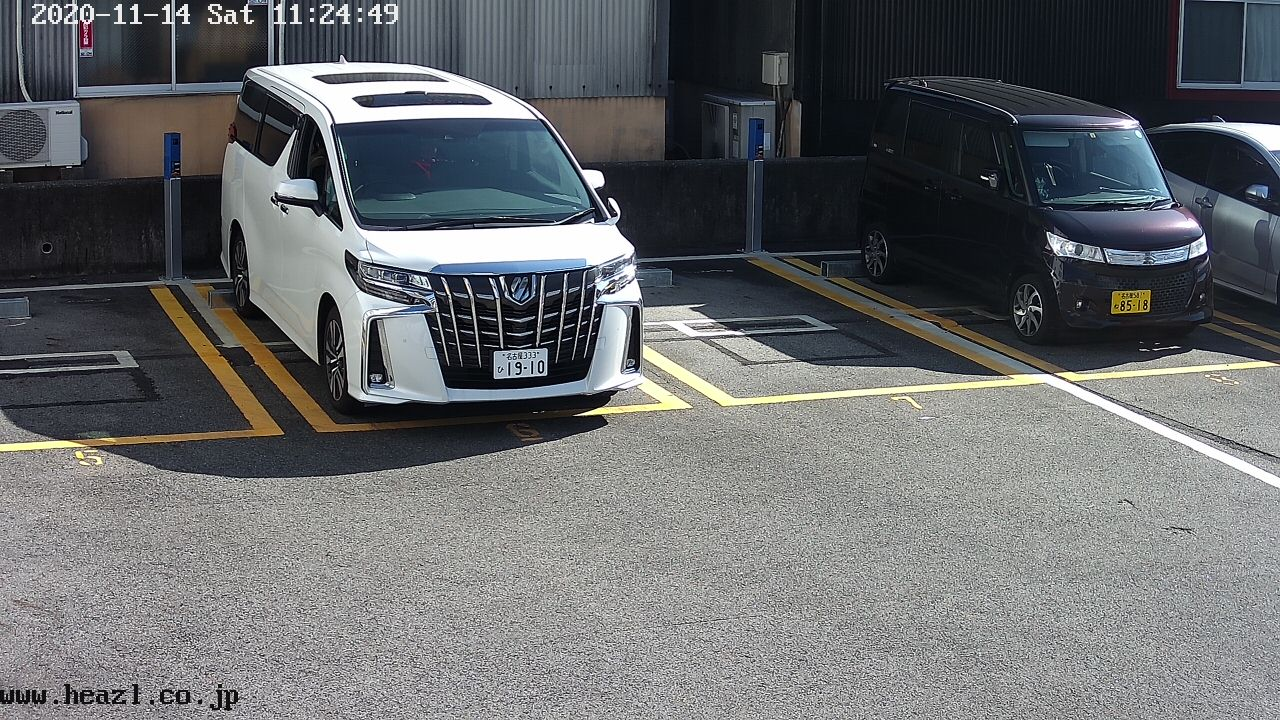number_plate: (492, 349, 549, 379), (1112, 289, 1151, 313)
